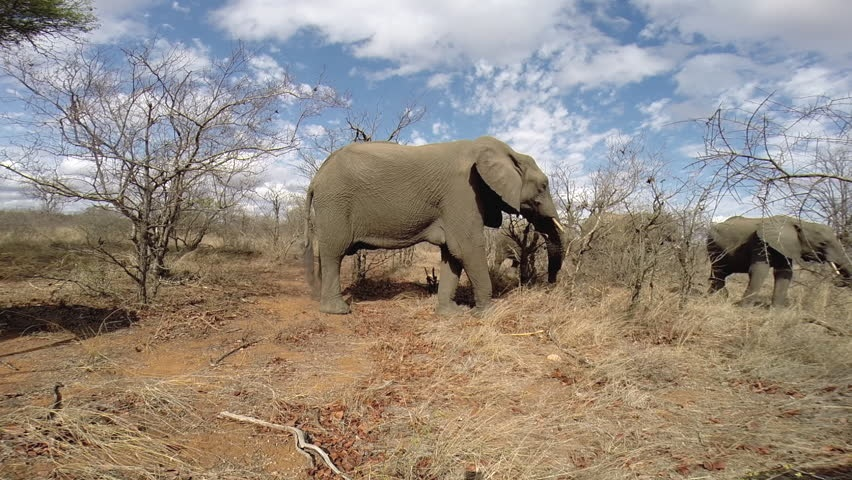elephant: (302, 137, 568, 304), (702, 214, 847, 306)
